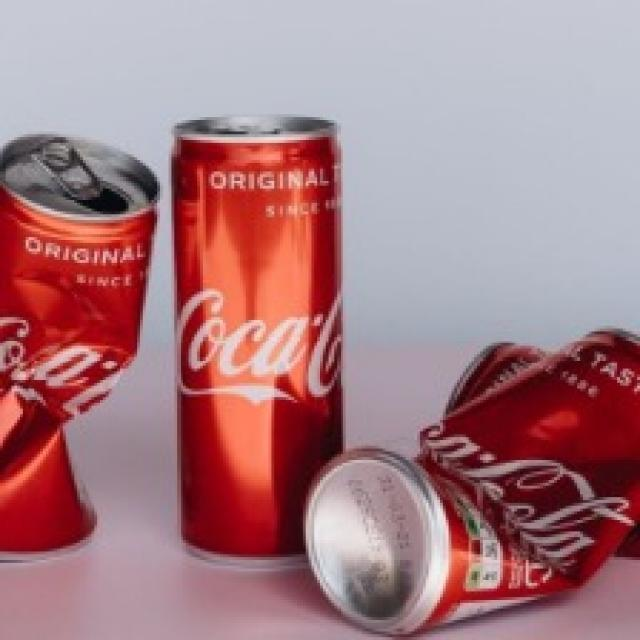metel: (299, 306, 640, 616), (172, 120, 361, 557), (3, 117, 160, 559)
